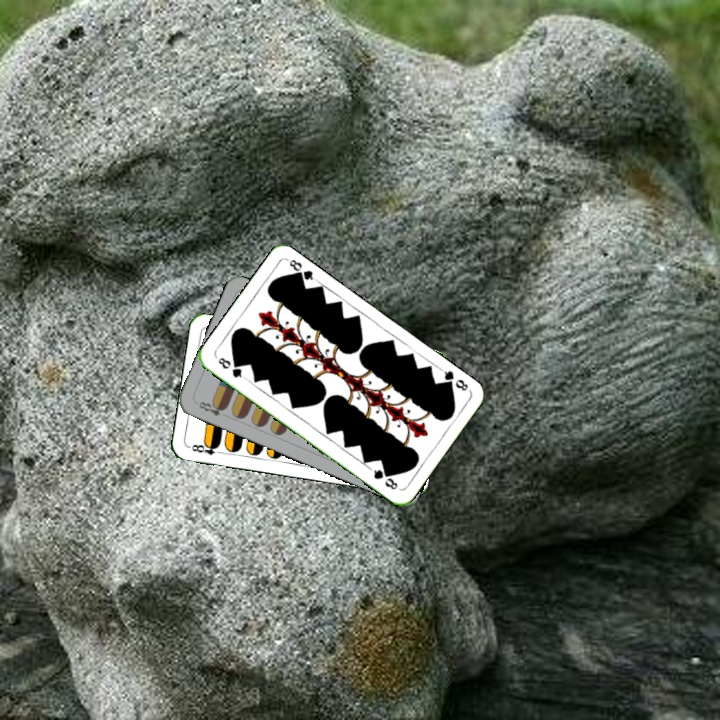E8: (192, 397, 229, 419), (185, 439, 226, 458)
G8: (437, 365, 472, 394), (214, 353, 248, 381)
